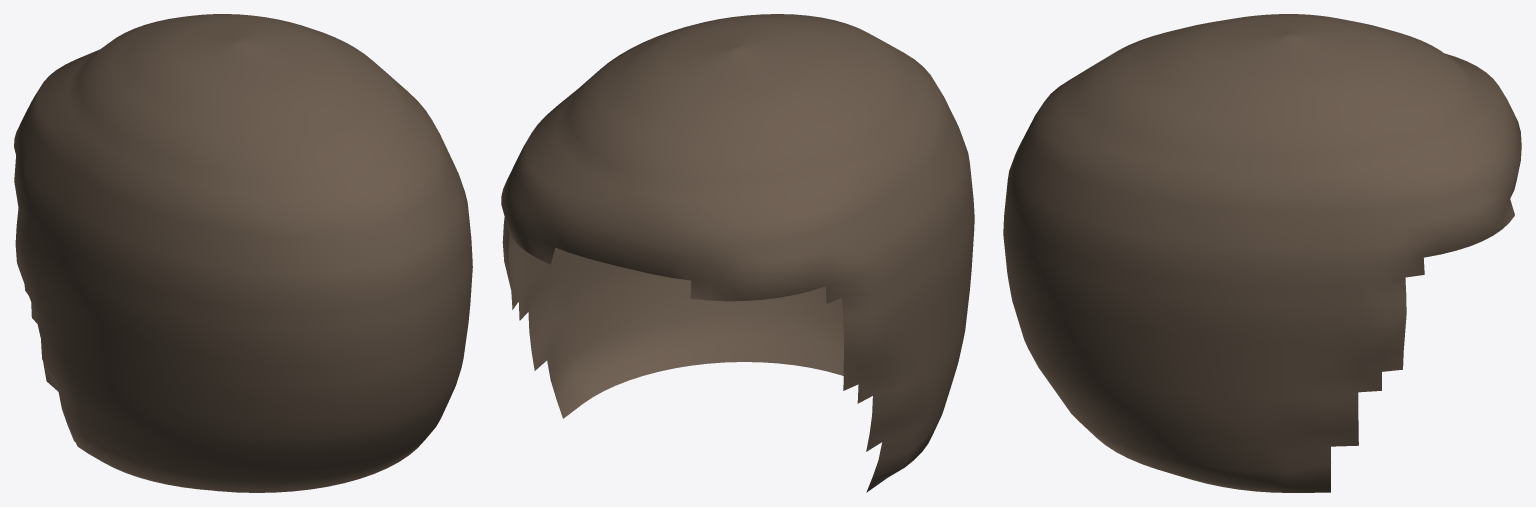
Rendered from gente.pelo_rapado.fbx.
3 renders of one model, left to right at view 1: azimuth 30°, elevation 25°; view 2: azimuth 150°, elevation 25°; view 3: azimuth 270°, elevation 25°, orthographic. The views are drawn at different scales.
Parts seen in each view (by area): view 1: Pelo rapado; view 2: Pelo rapado; view 3: Pelo rapado.
Part boxes in pixels (box(x1,y1,x2,y2)): Pelo rapado: box(14, 14, 472, 492); Pelo rapado: box(501, 14, 974, 492); Pelo rapado: box(1003, 14, 1521, 492).
Size of the model in its own units: 0.192 by 0.1901 by 0.2322.
